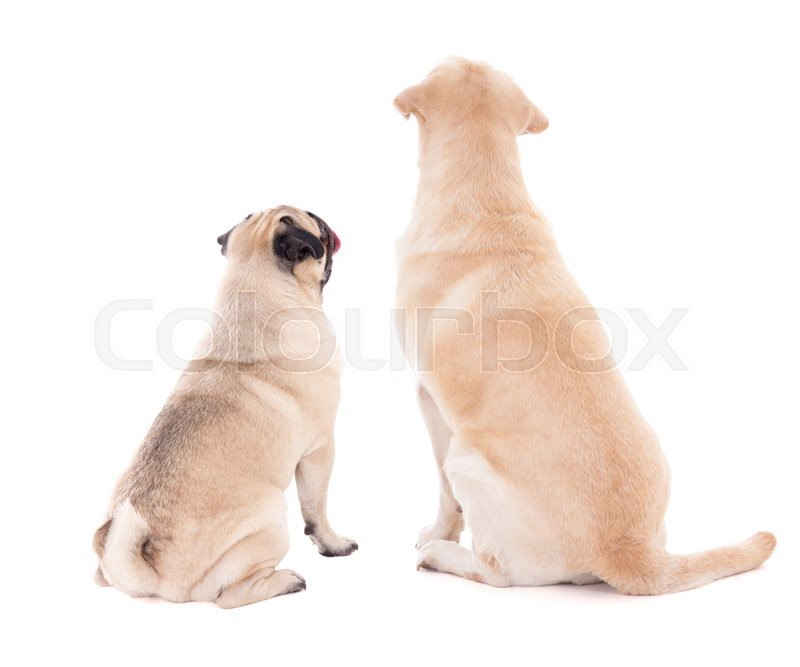dog: (388, 55, 780, 597), (94, 202, 363, 608)
